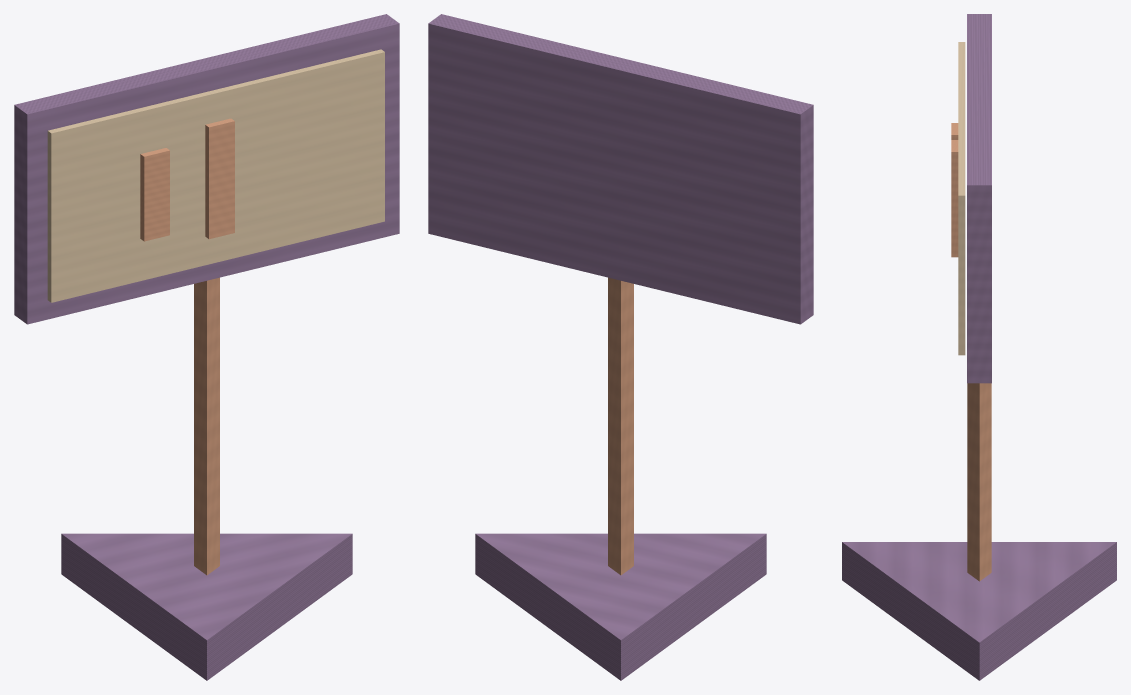
File: atlas100-s082-a11.lod1.glb
The picture shows the model from 3 angles, left to right: view 1: azimuth 30°, elevation 25°; view 2: azimuth 150°, elevation 25°; view 3: azimuth 270°, elevation 25°; orthographic projection. The views are drawn at different scales.
Visible parts, largest first — view 1: atlas100-s082-a11:part-003, atlas100-s082-a11:part-002, atlas100-s082-a11:part-000, atlas100-s082-a11:part-001, atlas100-s082-a11:part-005, atlas100-s082-a11:part-004; view 2: atlas100-s082-a11:part-002, atlas100-s082-a11:part-000, atlas100-s082-a11:part-001; view 3: atlas100-s082-a11:part-000, atlas100-s082-a11:part-002, atlas100-s082-a11:part-001, atlas100-s082-a11:part-003, atlas100-s082-a11:part-005.
Boxes of the visible parts, box(x1,y1,x2,y2) form: atlas100-s082-a11:part-003: box(47, 49, 384, 302); atlas100-s082-a11:part-002: box(14, 14, 399, 324); atlas100-s082-a11:part-000: box(61, 533, 352, 680); atlas100-s082-a11:part-001: box(194, 277, 219, 575); atlas100-s082-a11:part-005: box(205, 118, 234, 239); atlas100-s082-a11:part-004: box(140, 148, 169, 241); atlas100-s082-a11:part-002: box(428, 14, 813, 324); atlas100-s082-a11:part-000: box(475, 533, 766, 680); atlas100-s082-a11:part-001: box(608, 277, 633, 575); atlas100-s082-a11:part-000: box(842, 542, 1116, 680); atlas100-s082-a11:part-002: box(967, 14, 991, 383); atlas100-s082-a11:part-001: box(967, 383, 991, 581); atlas100-s082-a11:part-003: box(958, 42, 965, 355); atlas100-s082-a11:part-005: box(951, 140, 958, 257).
Size of the model in its own units: 1.15 by 1.61 by 0.7794.
Materials: 3 (3 with a texture image).
